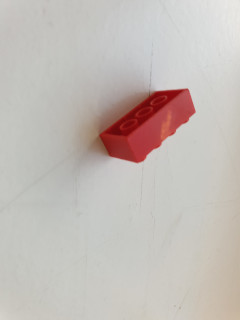2x4 red: (98, 87, 197, 164)
